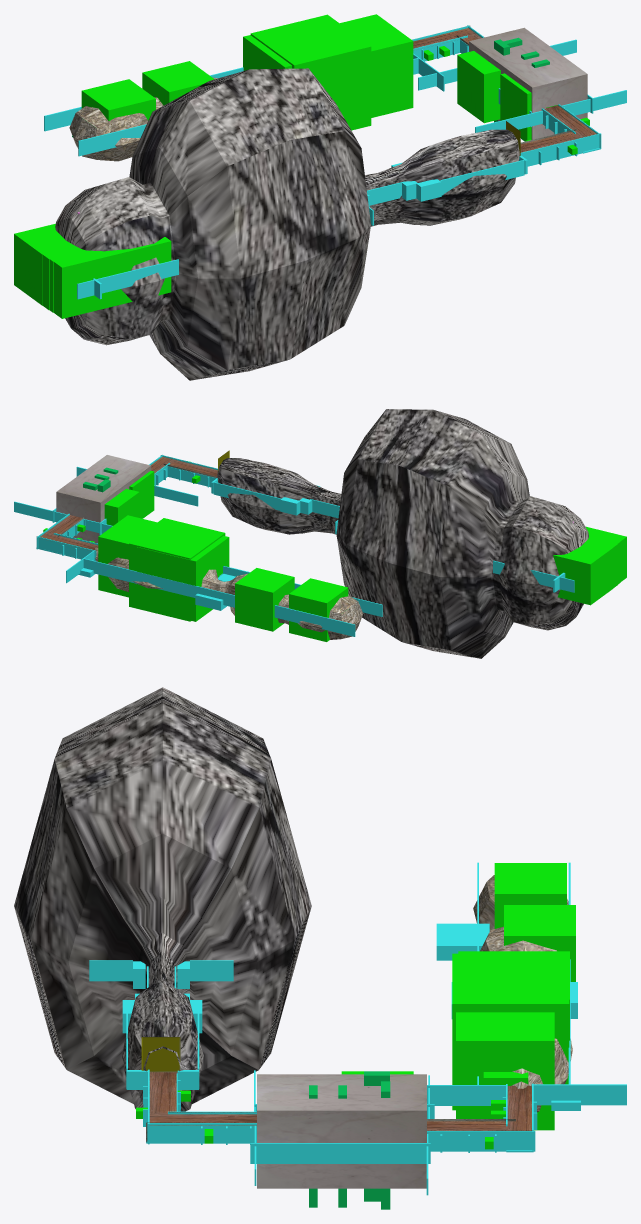
Rendered from level2.obj.
3 views of the same model, one above another, from view 1: azimuth 30°, elevation 25°; view 2: azimuth 150°, elevation 25°; view 3: azimuth 270°, elevation 25° (orthographic). The views are drawn at different scales.
Parts seen in each view (by area): view 1: Cube.057_Cube.065, Cube.250_Cube.243, Cube.056_Cube.062, Cube.267_Cube.260, Cube.251_Cube.244, Cube.257_Cube.250, Cube.055_Cube.061, Cube.207_Cube.007, Cube.247_Cube.217, Cube.266_Cube.259, Cube.275_Cube.269, Cube.264_Cube.257 (+12 smaller); view 2: Cube.057_Cube.065, Cube.248_Cube.241, Cube.056_Cube.062, Cube.250_Cube.243, Cube.269_Cube.262, Cube.247_Cube.217, Cube.055_Cube.061, Cube.266_Cube.259, Cube.207_Cube.007, Cube.251_Cube.244, Cube.257_Cube.250, Cube.259_Cube.252 (+12 smaller); view 3: Cube.057_Cube.065, Cube.056_Cube.062, Cube.250_Cube.243, Cube.251_Cube.244, Cube.270_Cube.263, Cube.207_Cube.007, Cube.247_Cube.217, Cube.055_Cube.061, Cube.123_Cube.117, Cube.244_Cube.118, Cube.124_Cube.160, Cube.282_Cube.275 (+8 smaller).
Boxes of the visible parts, box(x1,y1,x2,y2) form: Cube.057_Cube.065: box(55, 68, 519, 380); Cube.250_Cube.243: box(250, 14, 371, 130); Cube.056_Cube.062: box(469, 27, 587, 139); Cube.267_Cube.260: box(51, 237, 171, 318); Cube.251_Cube.244: box(340, 14, 413, 117); Cube.257_Cube.250: box(457, 51, 500, 123); Cube.055_Cube.061: box(69, 77, 217, 161); Cube.207_Cube.007: box(81, 79, 155, 127); Cube.247_Cube.217: box(142, 61, 214, 105); Cube.266_Cube.259: box(14, 223, 55, 305); Cube.275_Cube.269: box(77, 259, 178, 299); Cube.264_Cube.257: box(21, 230, 84, 310); Cube.057_Cube.065: box(217, 409, 588, 658); Cube.248_Cube.241: box(137, 535, 229, 621); Cube.056_Cube.062: box(56, 455, 151, 543); Cube.250_Cube.243: box(129, 518, 225, 621); Cube.269_Cube.262: box(83, 558, 355, 636); Cube.247_Cube.217: box(235, 568, 294, 631); Cube.055_Cube.061: box(95, 547, 363, 639); Cube.266_Cube.259: box(553, 548, 613, 605); Cube.207_Cube.007: box(289, 578, 348, 641); Cube.251_Cube.244: box(98, 515, 157, 597); Cube.257_Cube.250: box(104, 488, 139, 525); Cube.259_Cube.252: box(129, 470, 154, 518); Cube.057_Cube.065: box(14, 687, 311, 1111); Cube.056_Cube.062: box(257, 1074, 426, 1188); Cube.250_Cube.243: box(452, 953, 569, 1110); Cube.251_Cube.244: box(456, 1012, 554, 1130); Cube.270_Cube.263: box(250, 1143, 430, 1163); Cube.207_Cube.007: box(494, 863, 566, 928); Cube.247_Cube.217: box(504, 905, 575, 981); Cube.055_Cube.061: box(473, 875, 572, 1112); Cube.123_Cube.117: box(427, 1130, 535, 1151); Cube.244_Cube.118: box(531, 1084, 626, 1105); Cube.124_Cube.160: box(147, 1123, 256, 1141); Cube.282_Cube.275: box(436, 923, 489, 960).
Size of the model in its own units: 235 by 106 by 145.
